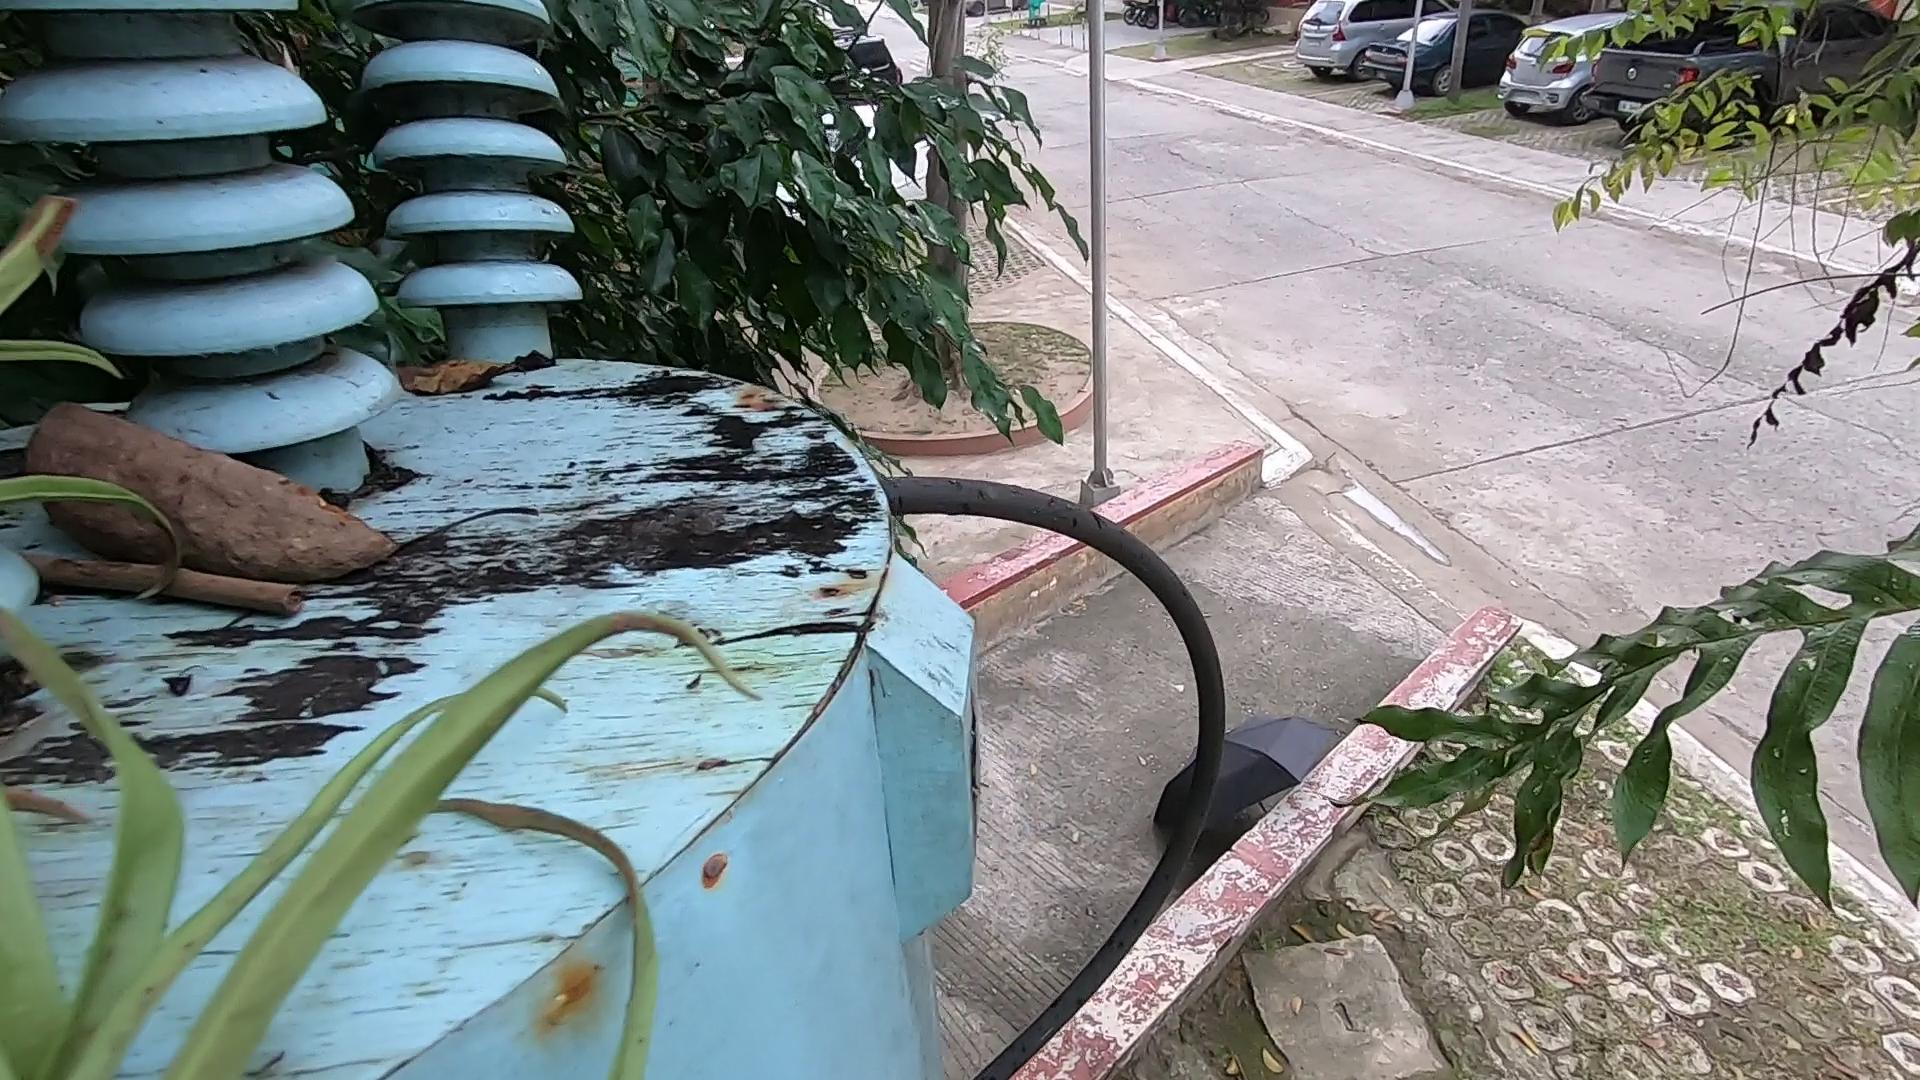leaf: (4, 682, 686, 1080), (396, 348, 568, 390)
mahogany fruit: (74, 375, 535, 588)
tree branch: (26, 524, 331, 618)
